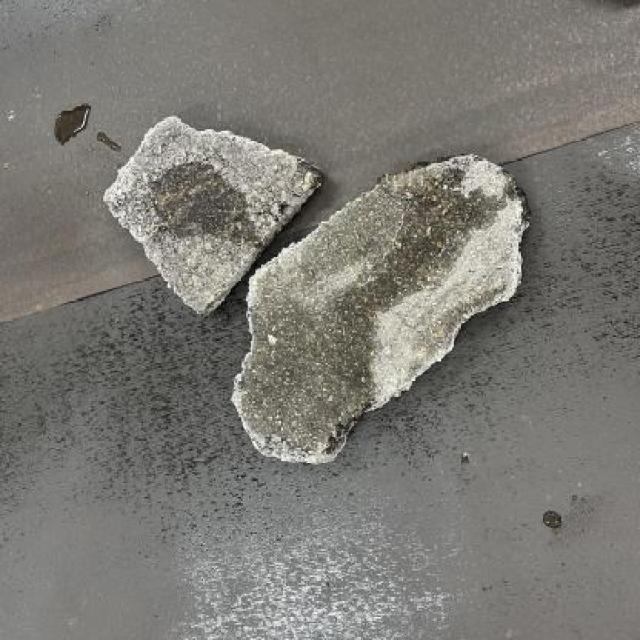Road Debris: (243, 170, 494, 310), (238, 273, 374, 459), (142, 154, 266, 252)
